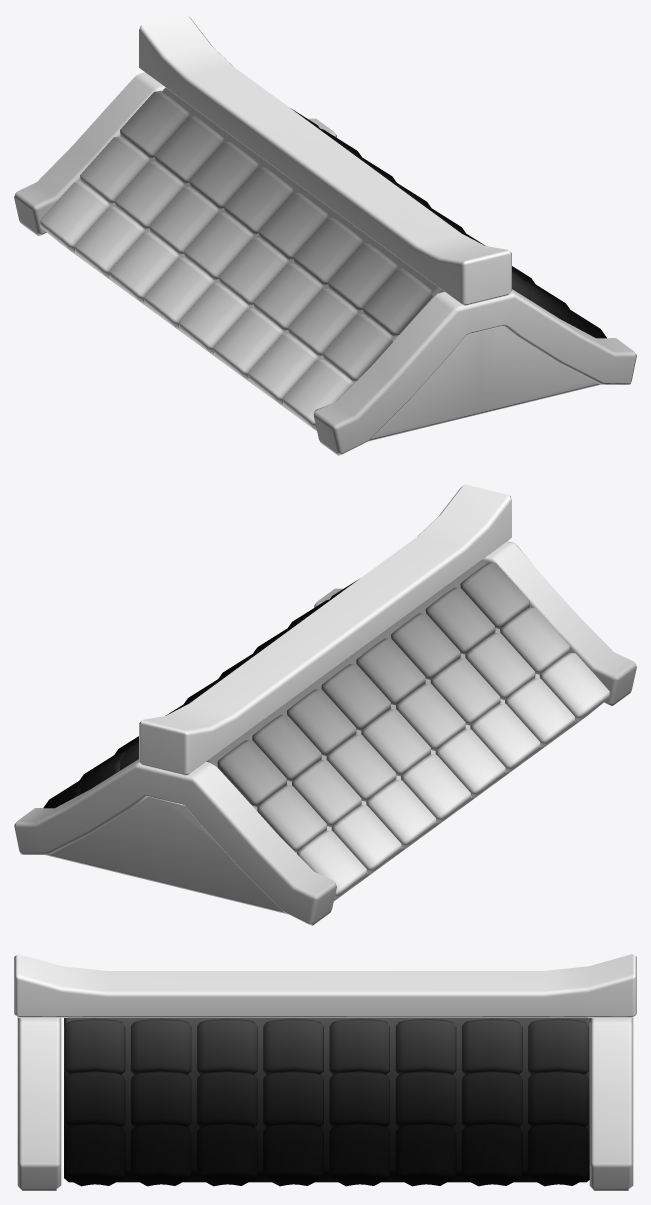
The model's file is SM_Stone_Roof_03.fbx.
The picture shows the model from 3 angles, top to bottom: view 1: azimuth 30°, elevation 25°; view 2: azimuth 150°, elevation 25°; view 3: azimuth 270°, elevation 25°; orthographic projection. The views are drawn at different scales.
Visible parts, largest first — view 1: SM_Stone_Roof_03; view 2: SM_Stone_Roof_03; view 3: SM_Stone_Roof_03.
Part boxes in pixels (x1,y1,x2,y2): SM_Stone_Roof_03: (14,14,636,455); SM_Stone_Roof_03: (14,484,636,925); SM_Stone_Roof_03: (14,954,636,1190).
Bounding box in the file's own units: 1.1 × 0.6002 × 2.01.
